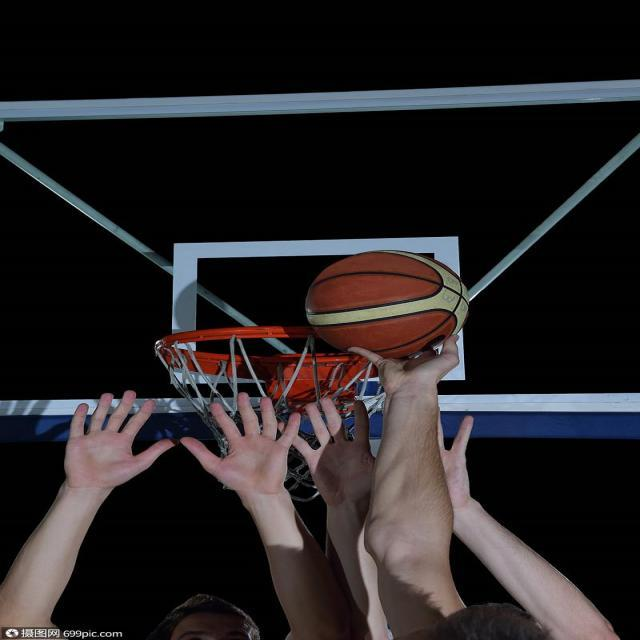rim: (306, 248, 472, 354)
